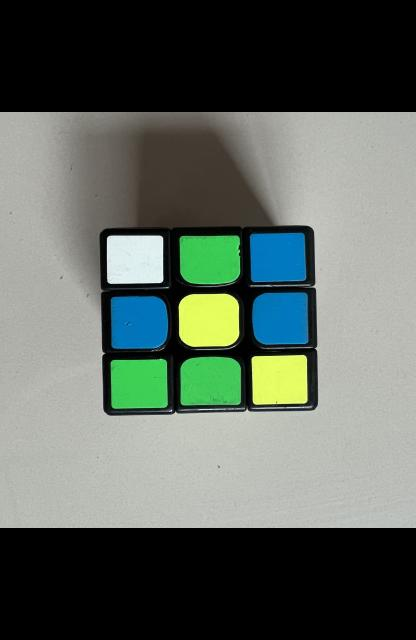Blue: (109, 296, 167, 349), (252, 292, 308, 345), (249, 232, 306, 282)
Green: (179, 357, 240, 406), (178, 236, 239, 284), (109, 359, 167, 409)
White: (106, 236, 163, 284)
Yellow: (178, 294, 238, 347), (250, 355, 307, 404)
